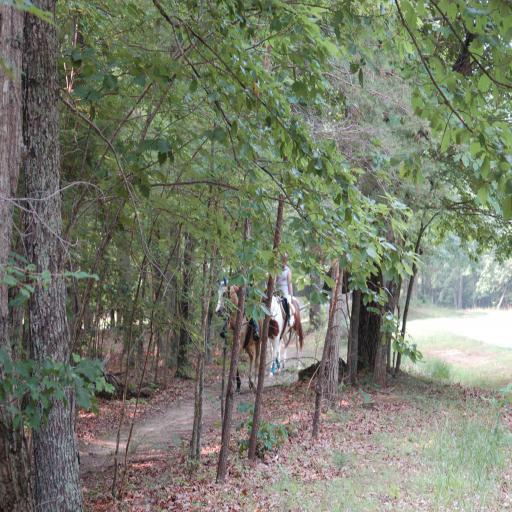Horse: (214, 278, 263, 394), (257, 293, 306, 378)
